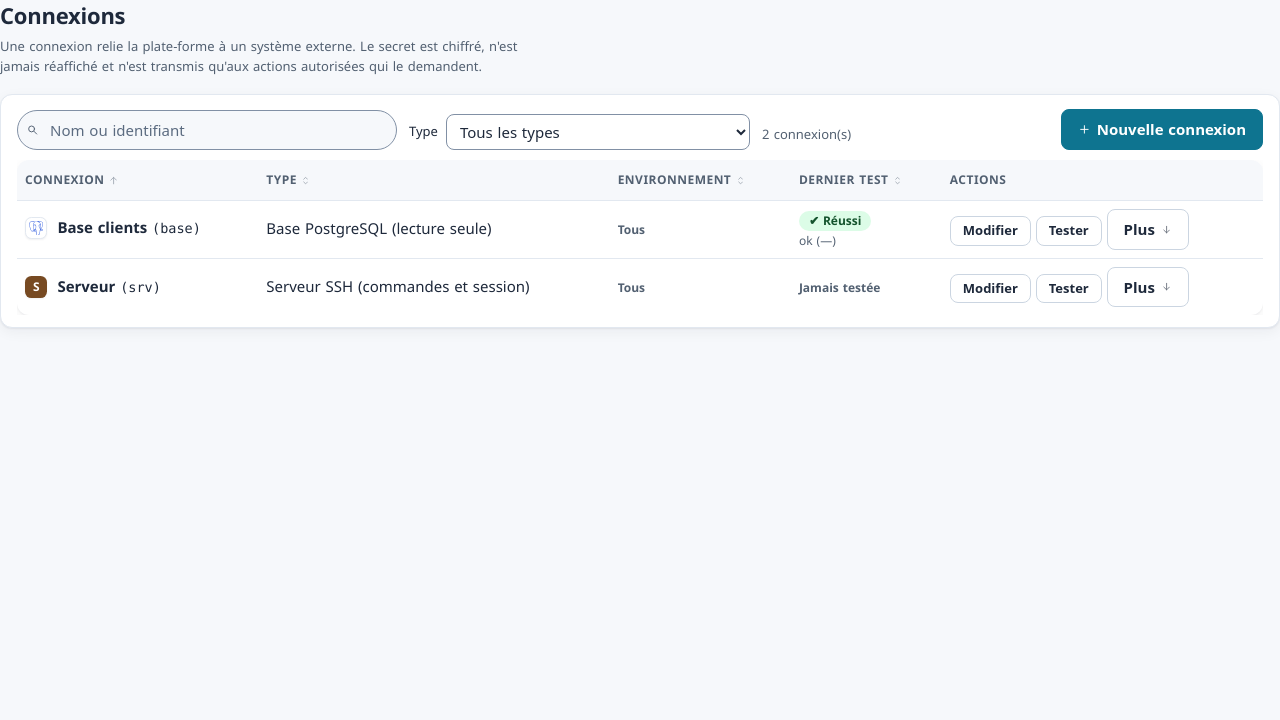
Test: Connexions : modification › opens the edit form prefilled, with the identifier, type and environment explained as fixed
The image size is (1280, 720).
Step 1. Click the button with aria-label "Modifier la connexion Base clients" → (990, 231), box [950,216,1031,246]
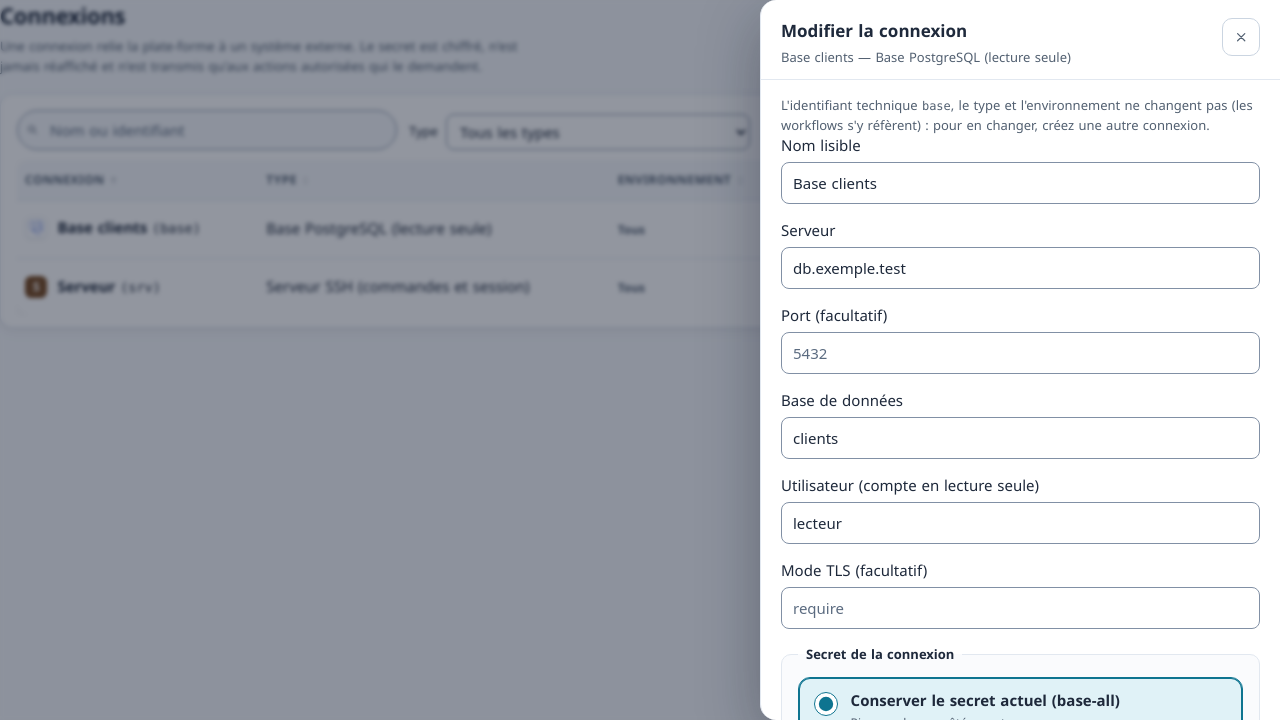
Now the field labelled "Nom lisible" holds "Base clients", box [781,162,1260,204]
Now the field labelled "Serveur" holds "db.exemple.test", box [781,246,1260,289]
Now the text "ne changent pas" is shown, box [781,96,1253,134]
